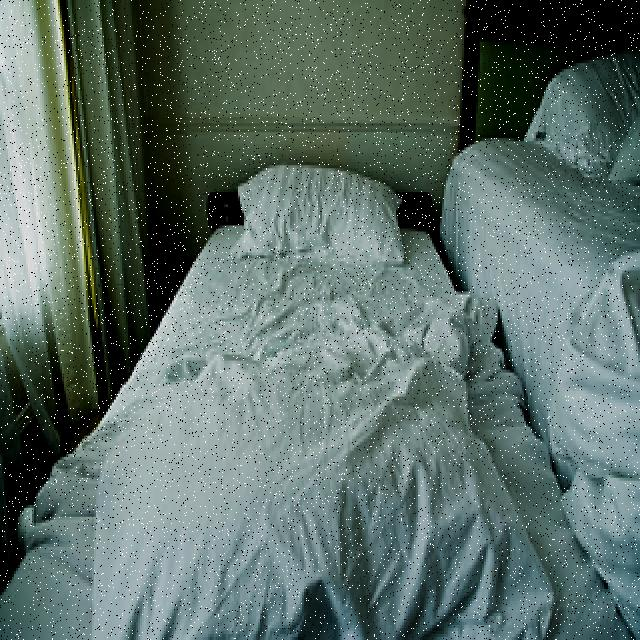bed: (0, 162, 618, 640)
